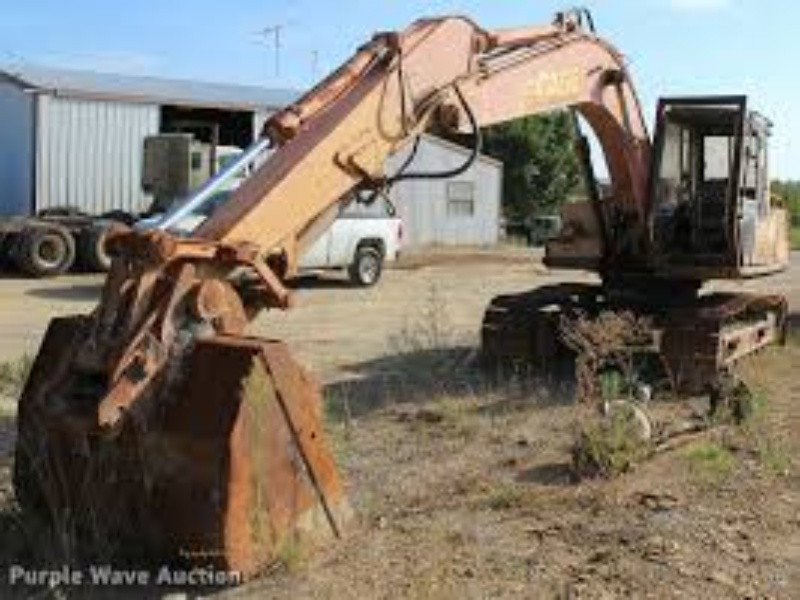wajueji: (508, 20, 792, 410)
